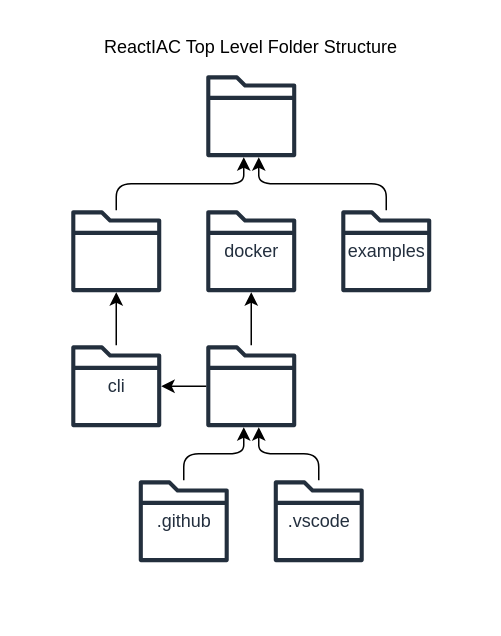
The diagram is 501 pixels wide and 636 high, and some of its shapes have lost their labels. Each missing label, with the centre of its shape:
core: point (251, 115)
engine: point (115, 251)
tasks: point (251, 385)
